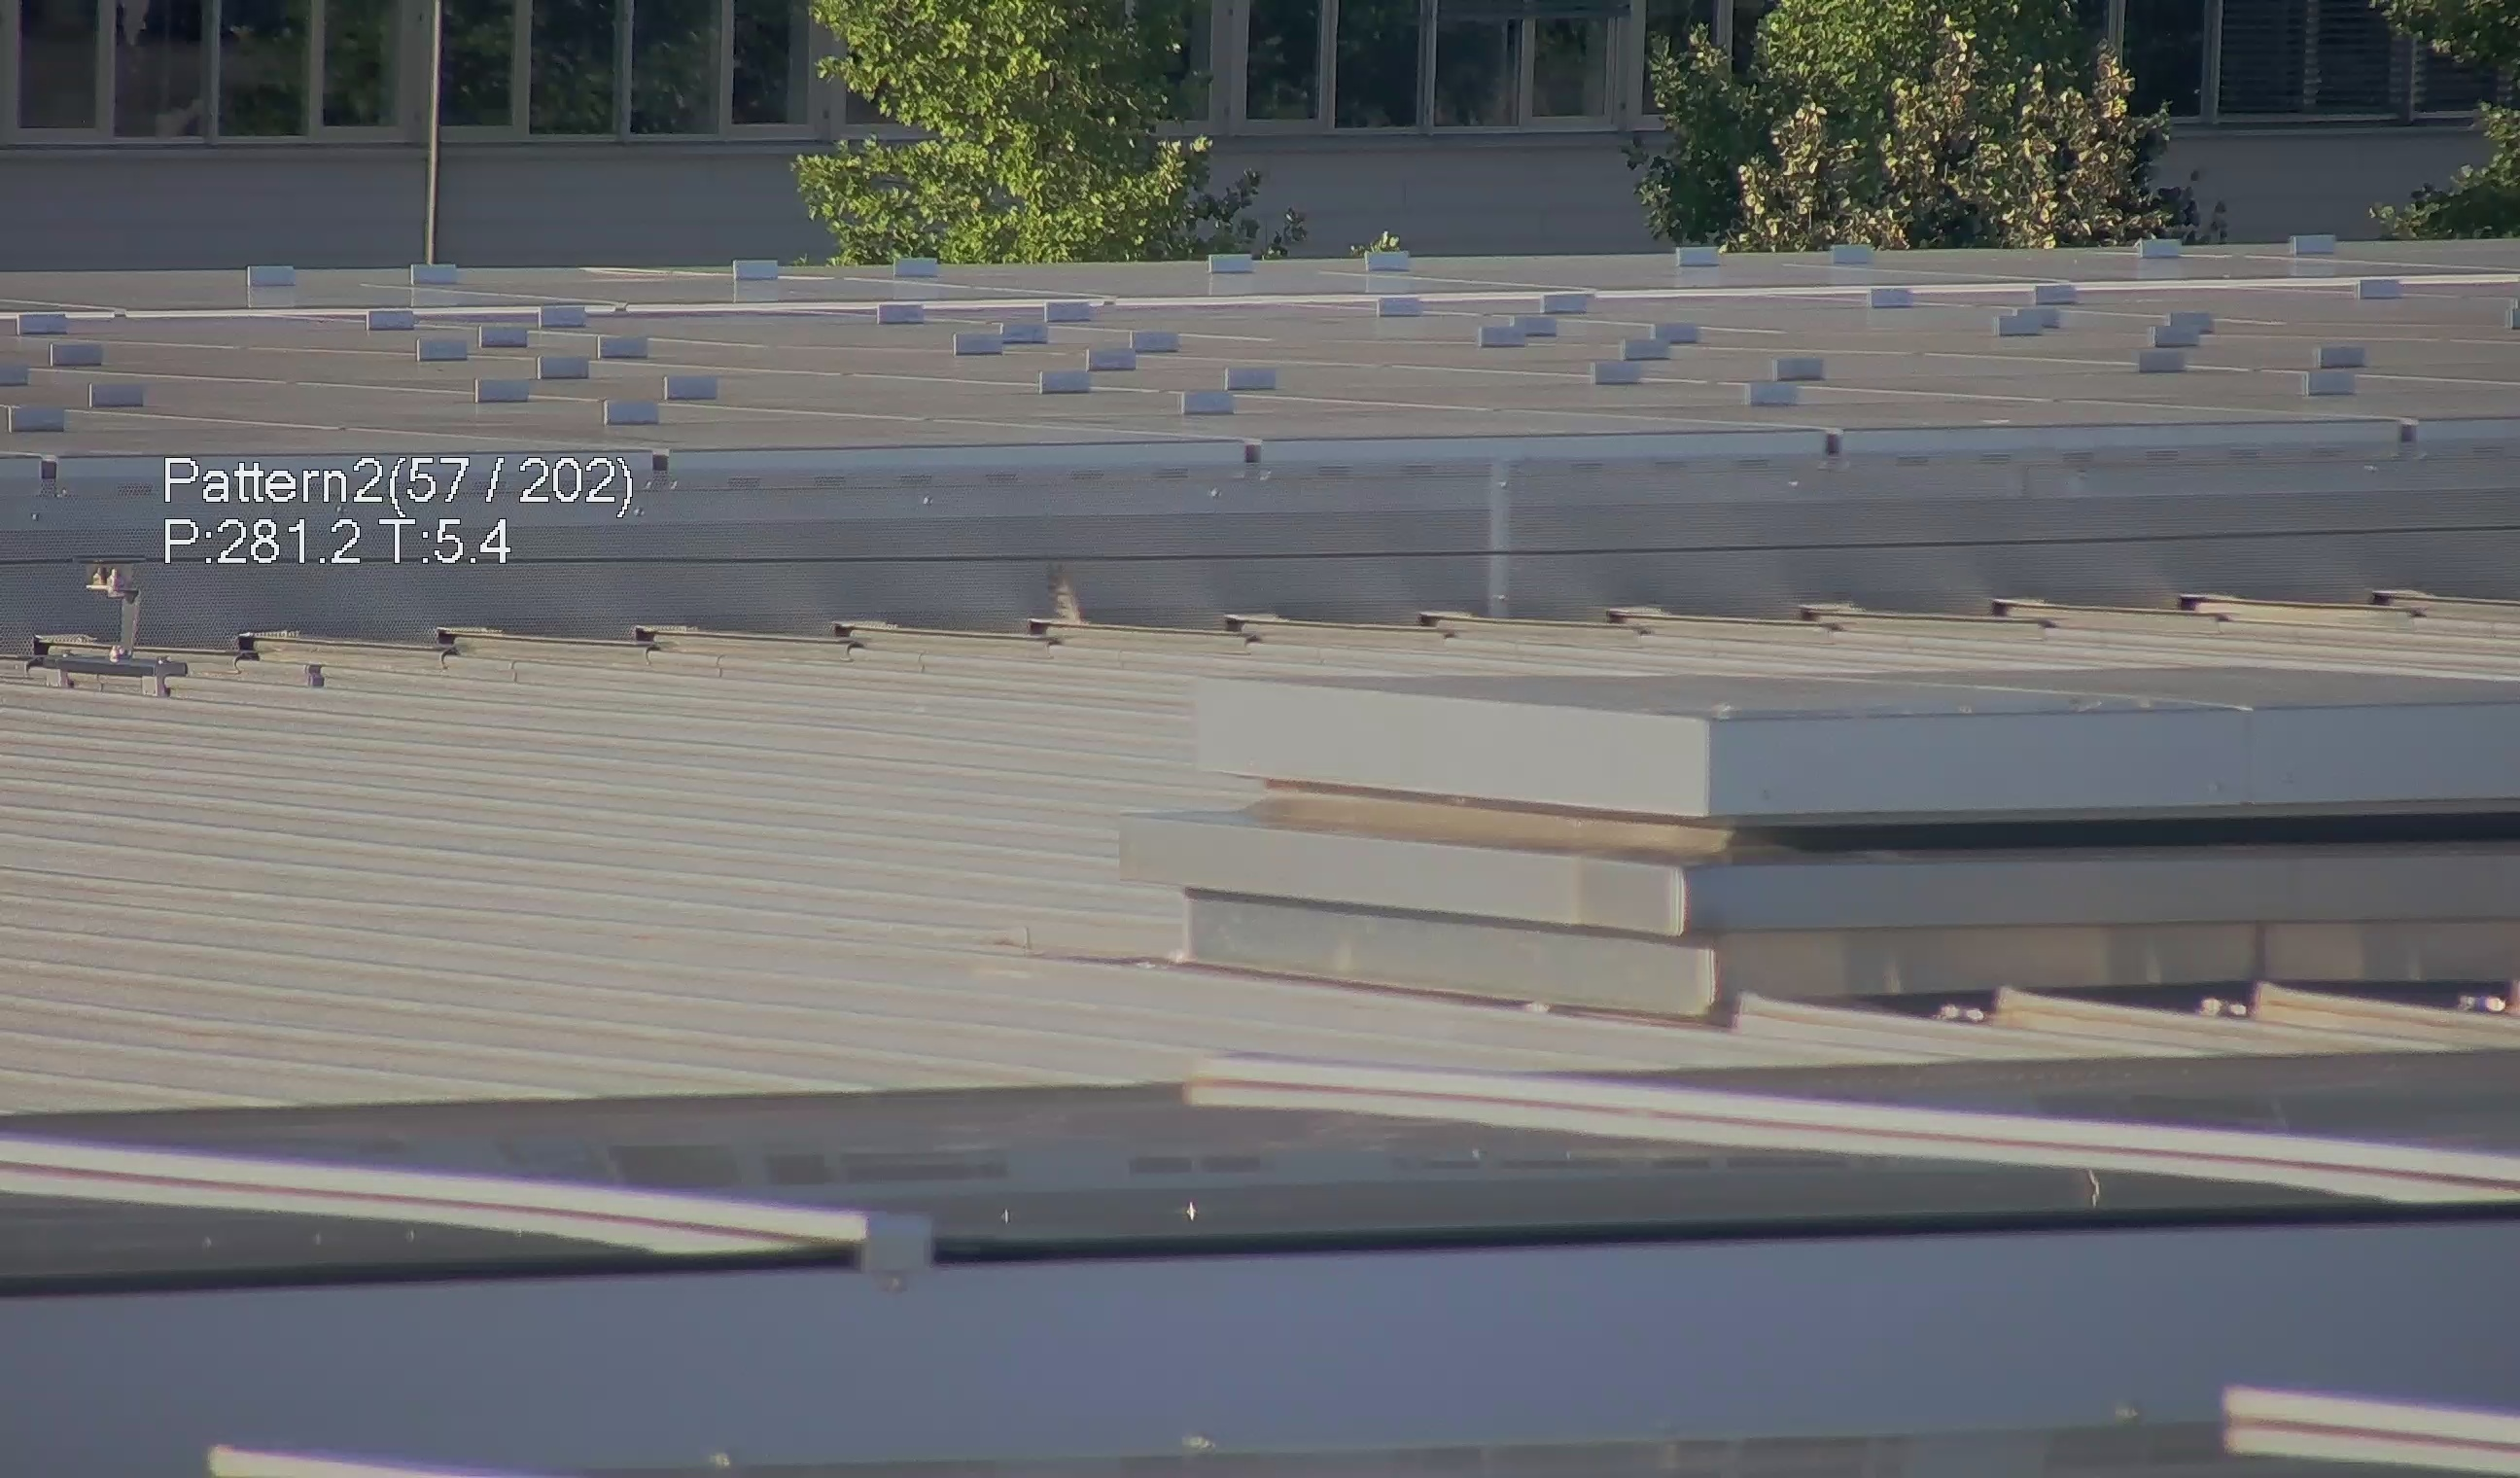Other: (1018, 551, 1083, 648)
